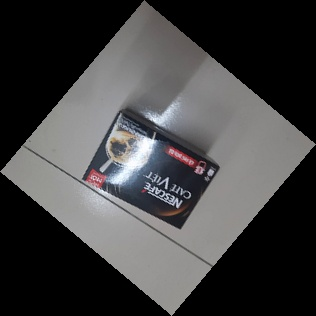CF Viet: (80, 109, 221, 232)
